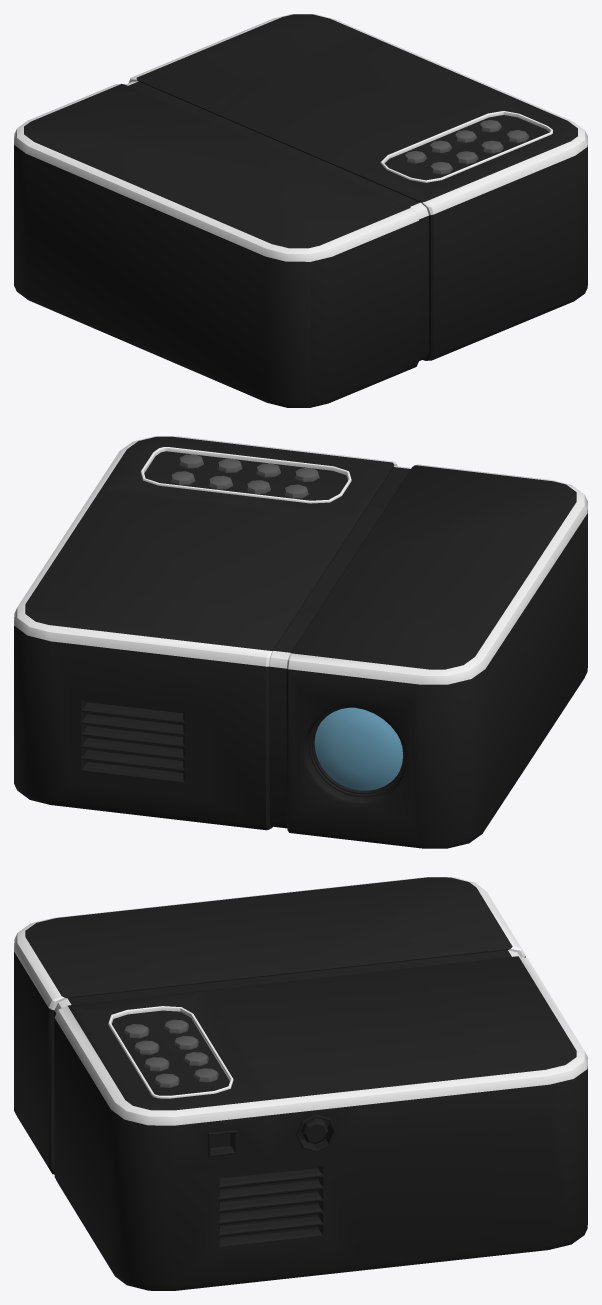
Rendered from classroom-projector.glb.
3 renders of one model, top to bottom at view 1: azimuth 30°, elevation 25°; view 2: azimuth 150°, elevation 25°; view 3: azimuth 270°, elevation 25°, orthographic. The views are drawn at different scales.
Parts seen in each view (by area): view 1: Object_70; view 2: Object_70; view 3: Object_70.
Part boxes in pixels (x1=…): Object_70: x1=14, y1=14, x2=587, y2=407; Object_70: x1=14, y1=436, x2=587, y2=848; Object_70: x1=14, y1=877, x2=587, y2=1290.
Bounding box in the file's own units: 0.7014 × 0.2564 × 0.7014.
1 material, 1 textured.
